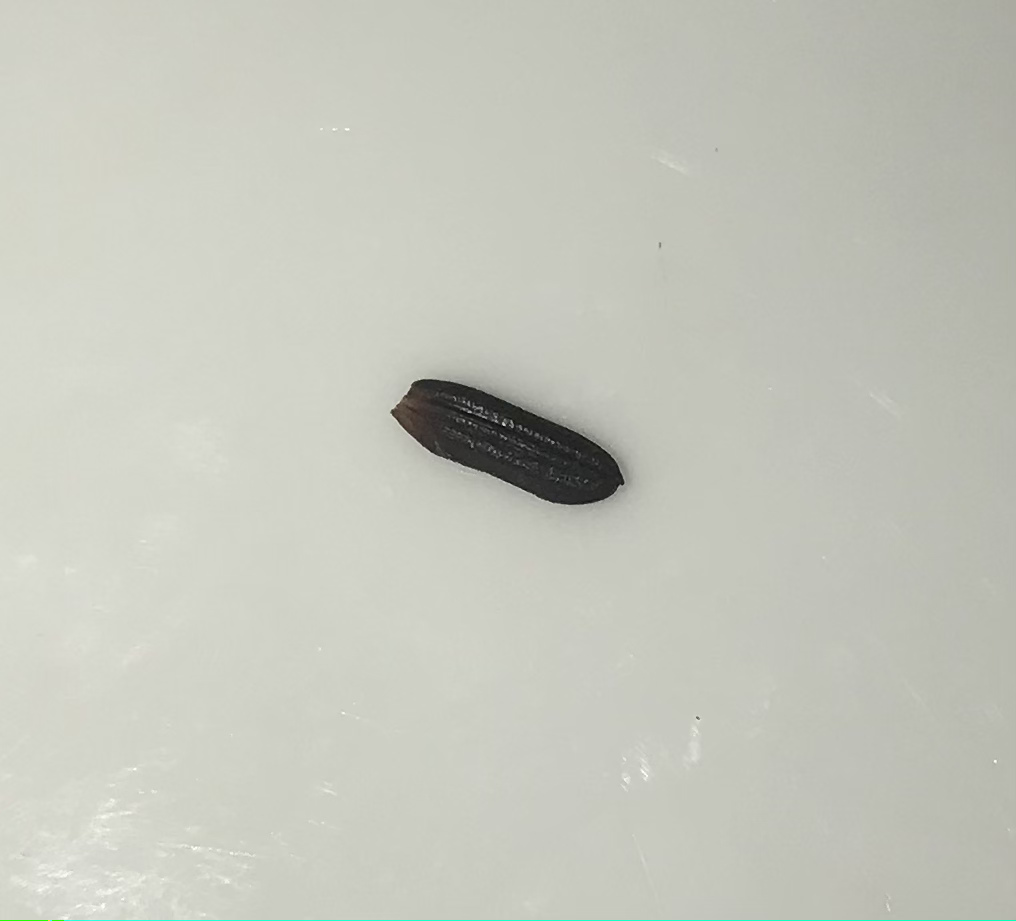Gao lut: (386, 368, 630, 520)
